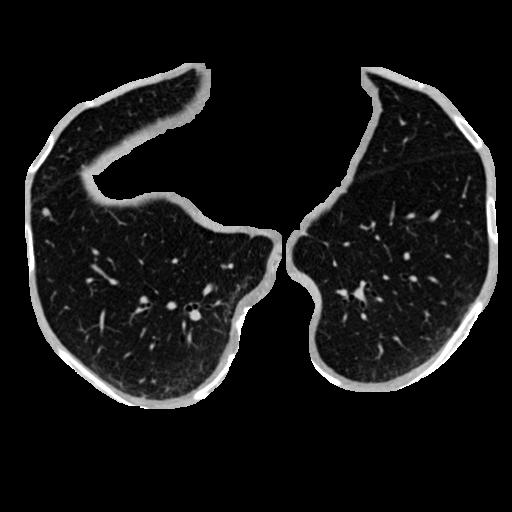nodule: (41, 208, 49, 216)
